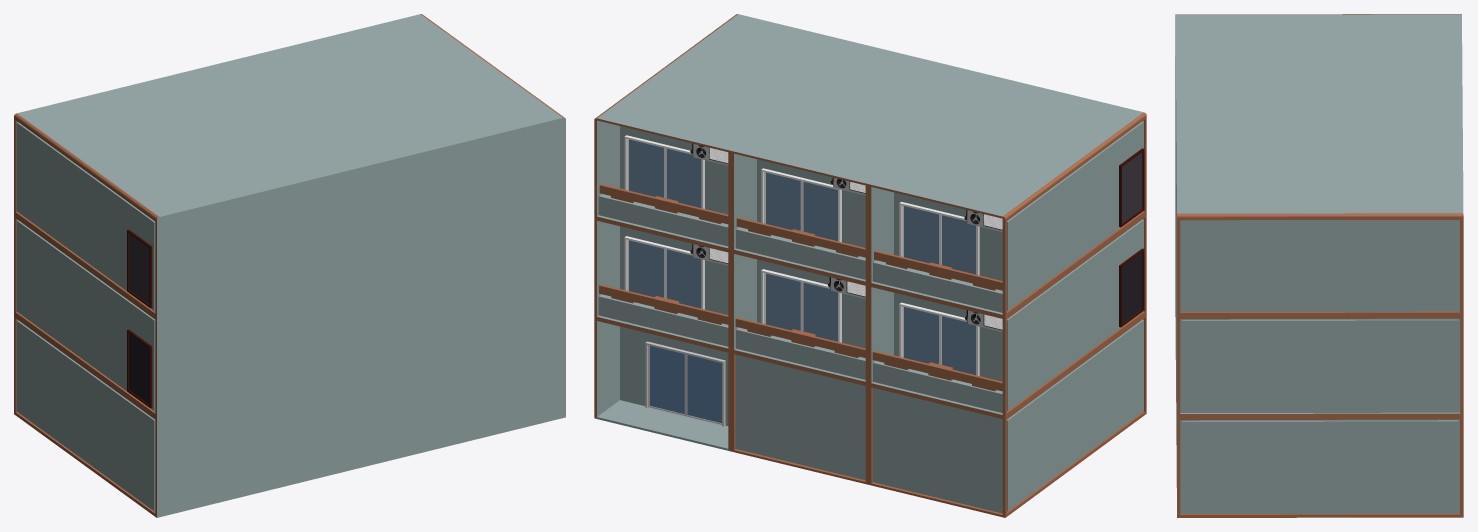
File: Himik_Street_Prop_Apartment.fbx
The picture shows the model from 3 angles, left to right: view 1: azimuth 30°, elevation 25°; view 2: azimuth 150°, elevation 25°; view 3: azimuth 270°, elevation 25°; orthographic projection.
Visible parts, largest first — view 1: JonasApartment_Body, EmergencyDoor1, EmergencyDoor2; view 2: JonasApartment_Body, MainDoor, BalconyDoor.004, BalconyDoor.003, BalconyDoor.005, BalconyDoor.001, BalconyDoor.002, BalconyDoor, EmergencyDoor2, EmergencyDoor1; view 3: JonasApartment_Body.
Part boxes in pixels (bbox=[...]): JonasApartment_Body: bbox=[14, 14, 565, 517]; EmergencyDoor1: bbox=[127, 229, 152, 308]; EmergencyDoor2: bbox=[127, 329, 152, 408]; JonasApartment_Body: bbox=[594, 14, 1146, 517]; MainDoor: bbox=[645, 341, 725, 426]; BalconyDoor.004: bbox=[761, 168, 841, 241]; BalconyDoor.003: bbox=[624, 135, 704, 208]; BalconyDoor.005: bbox=[899, 202, 979, 275]; BalconyDoor.001: bbox=[761, 269, 841, 342]; BalconyDoor.002: bbox=[899, 302, 979, 375]; BalconyDoor: bbox=[624, 236, 704, 309]; EmergencyDoor2: bbox=[1119, 248, 1144, 327]; EmergencyDoor1: bbox=[1119, 148, 1144, 227]; JonasApartment_Body: bbox=[1175, 14, 1463, 517].
Size of the model in its own units: 3016 by 1810 by 2100.
Materials: 6 (6 with a texture image).
